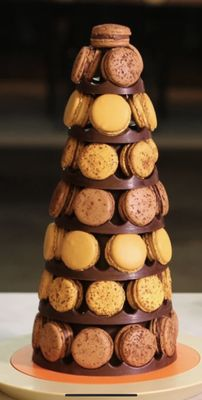curry: (34, 22, 184, 393)
